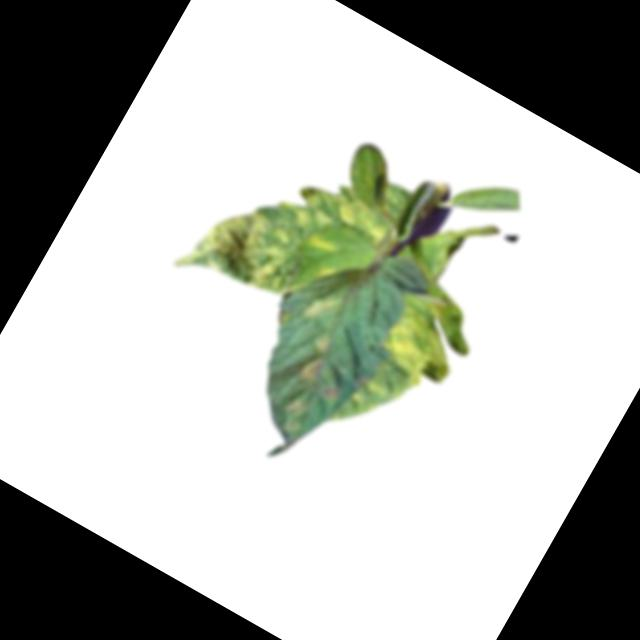Leaf_Mold: (170, 162, 325, 320), (363, 281, 486, 407), (299, 173, 398, 249), (295, 280, 346, 332), (295, 349, 329, 385), (305, 229, 343, 260), (309, 330, 334, 356)
